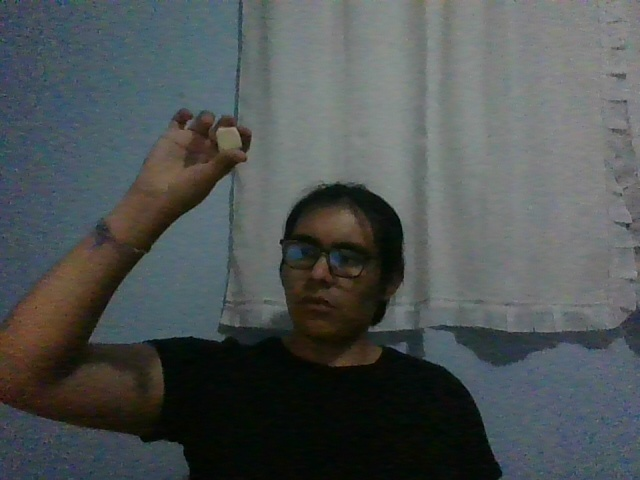goma: (216, 126, 242, 152)
